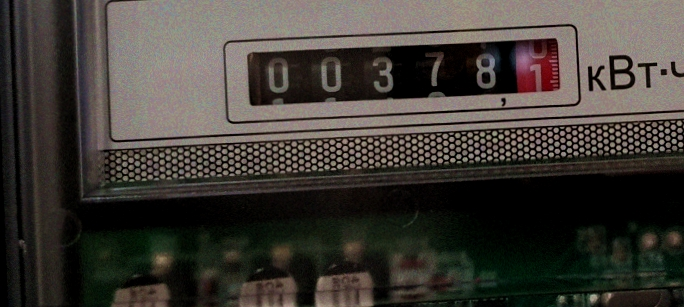0: (265, 54, 292, 94), (318, 54, 343, 93), (526, 38, 548, 60)
1: (526, 60, 545, 92)
3: (369, 54, 395, 95)
7: (422, 49, 445, 88)
8: (473, 50, 497, 90)
screen: (226, 20, 579, 116)
